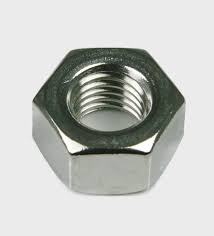Thread: (58, 55, 160, 140)
